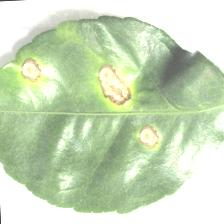canker: (22, 46, 171, 163)
